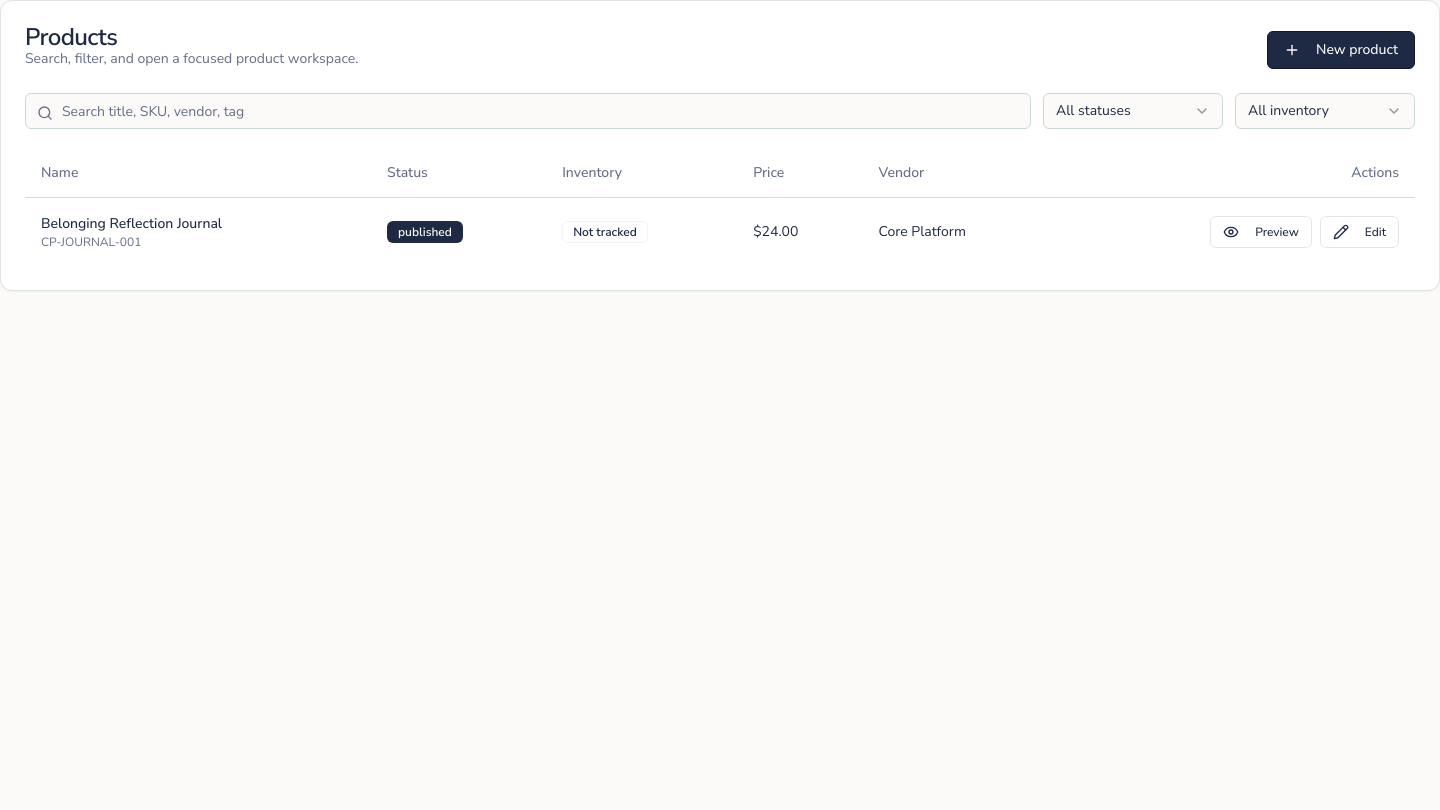
Test case: Ecommerce ProductsTab › opens product editing in a tabbed drawer
Click the button "Edit" at (1359, 232), box [1320,216,1399,248]
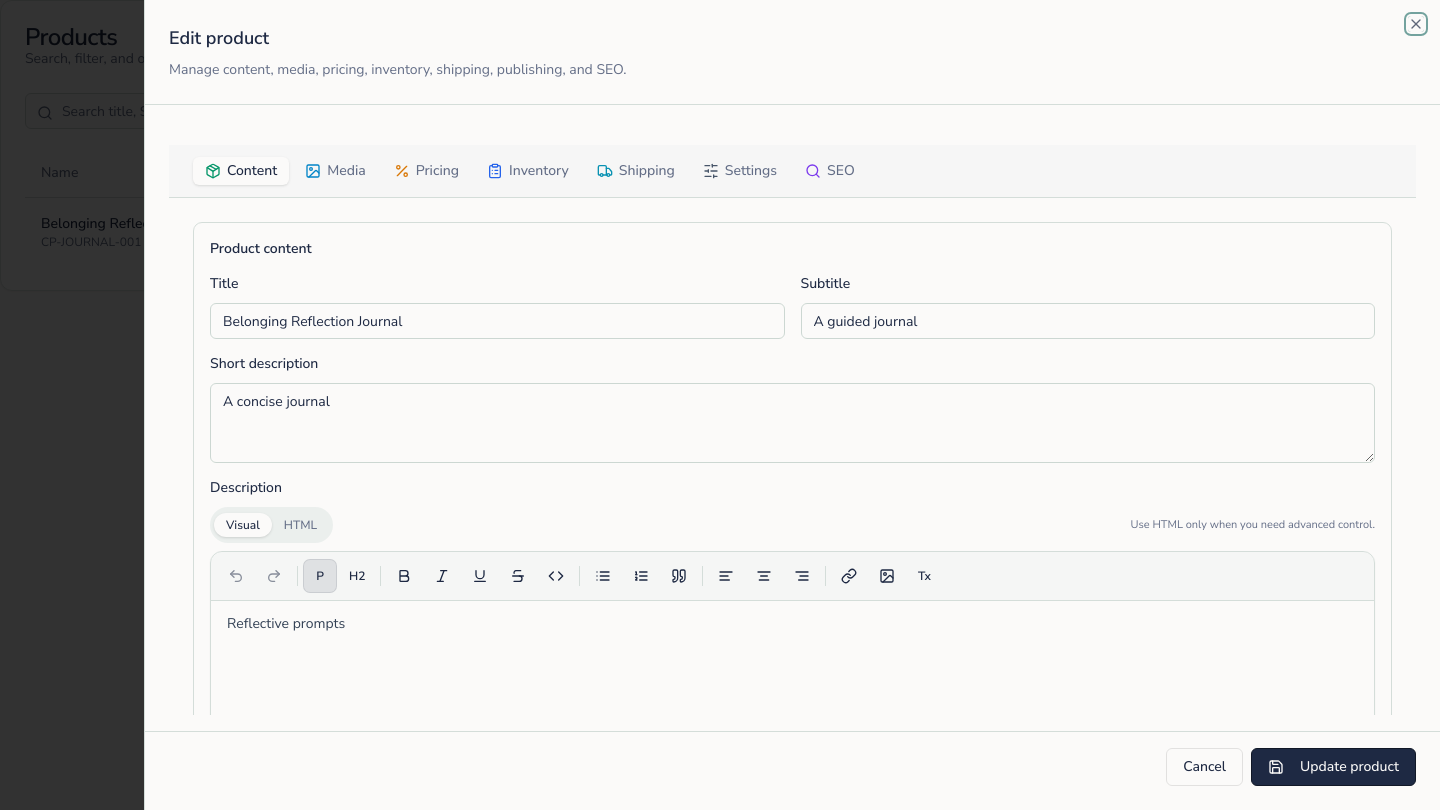
Now the text "Edit product" is shown, box [169,26,269,50]
Now the text "content" is shown, box [169,60,626,79]
Now the text "media" is shown, box [169,60,626,79]
